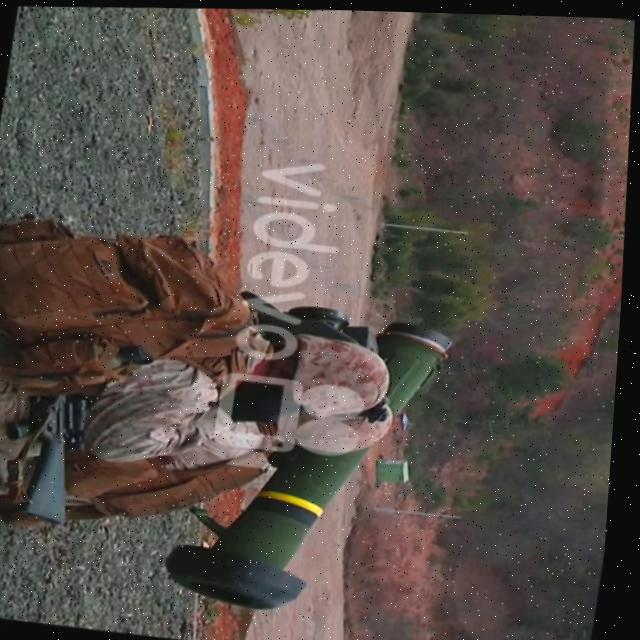rocket: (163, 300, 465, 629)
